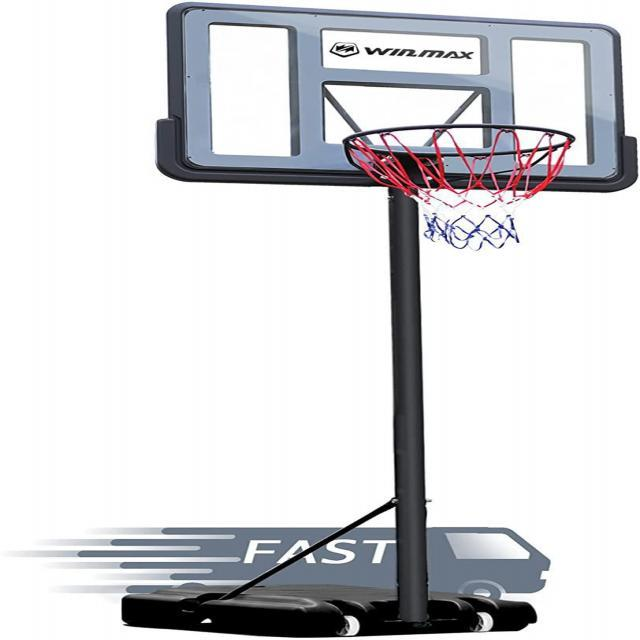hoop: (342, 124, 576, 251)
